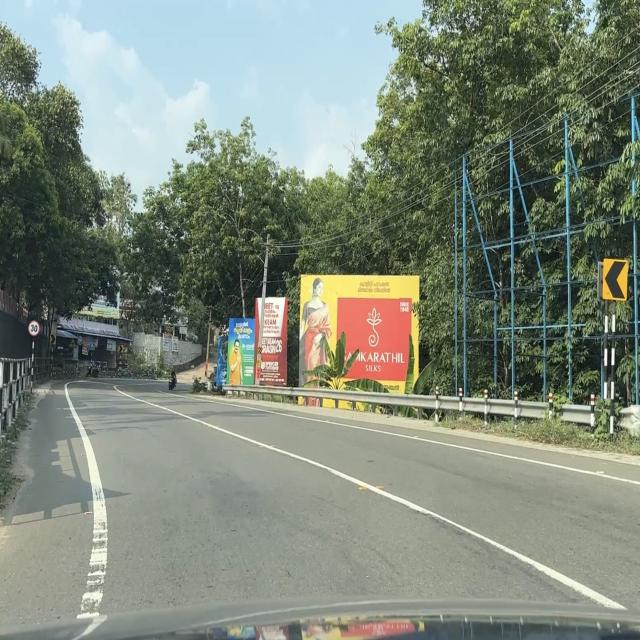SPEED_LIMIT_30: (28, 320, 40, 337)
TURN_LEFT: (602, 258, 629, 302)
